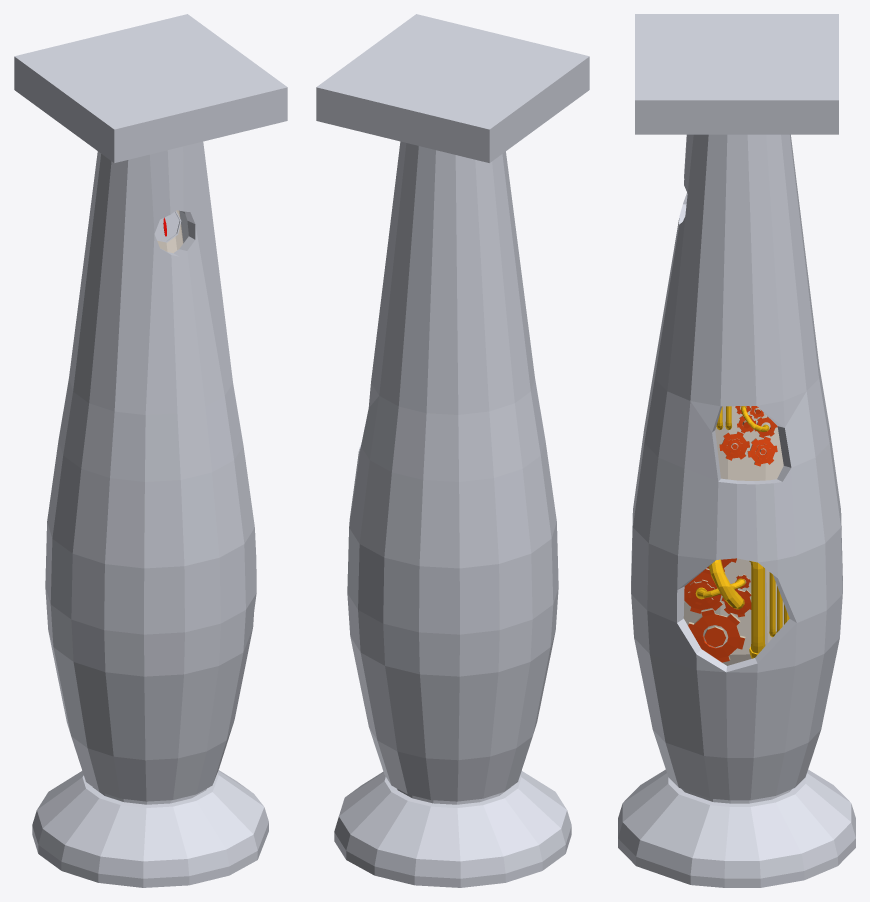
File: Marble_Columns_Damaged.fbx
3 renders of one model, left to right at view 1: azimuth 30°, elevation 25°; view 2: azimuth 150°, elevation 25°; view 3: azimuth 270°, elevation 25°, orthographic.
Visible parts, largest first — view 1: Marble_Columns; view 2: Marble_Columns; view 3: Marble_Columns.
Boxes of the visible parts, <box> form: Marble_Columns: <box>14,14,287,887</box>; Marble_Columns: <box>316,14,589,887</box>; Marble_Columns: <box>618,14,855,887</box>.
Bounding box in the file's own units: 196 × 710 × 196.
